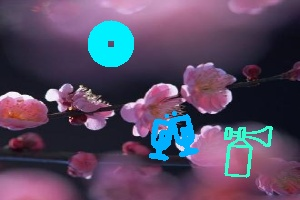喷壶: (219, 125, 273, 177)
碰杯: (150, 110, 199, 163)
铜钱: (87, 20, 136, 67)
